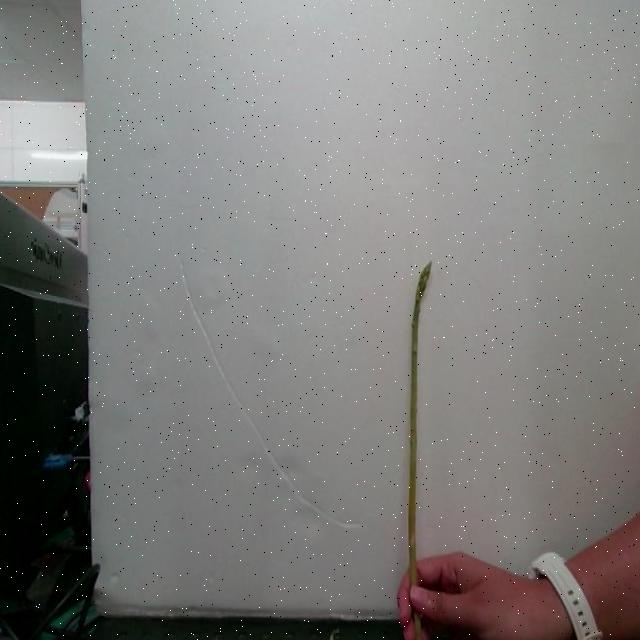aspargus: (403, 264, 432, 640)
